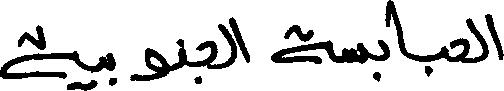X: (0, 20, 77, 90), (273, 20, 331, 68), (132, 43, 167, 85), (218, 12, 234, 73), (469, 10, 486, 67), (449, 14, 467, 67), (391, 0, 405, 60), (488, 9, 503, 64), (199, 36, 214, 88), (344, 38, 366, 68), (236, 18, 249, 67), (381, 0, 389, 65), (108, 48, 115, 90), (179, 34, 184, 72), (99, 50, 106, 75), (442, 41, 447, 65)
